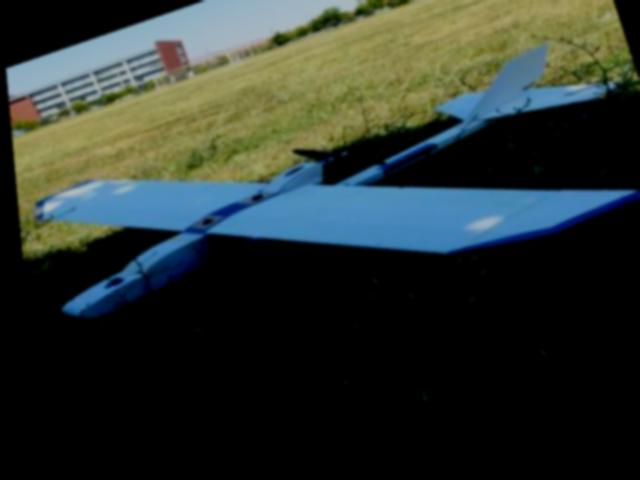uav: (8, 9, 640, 395)
